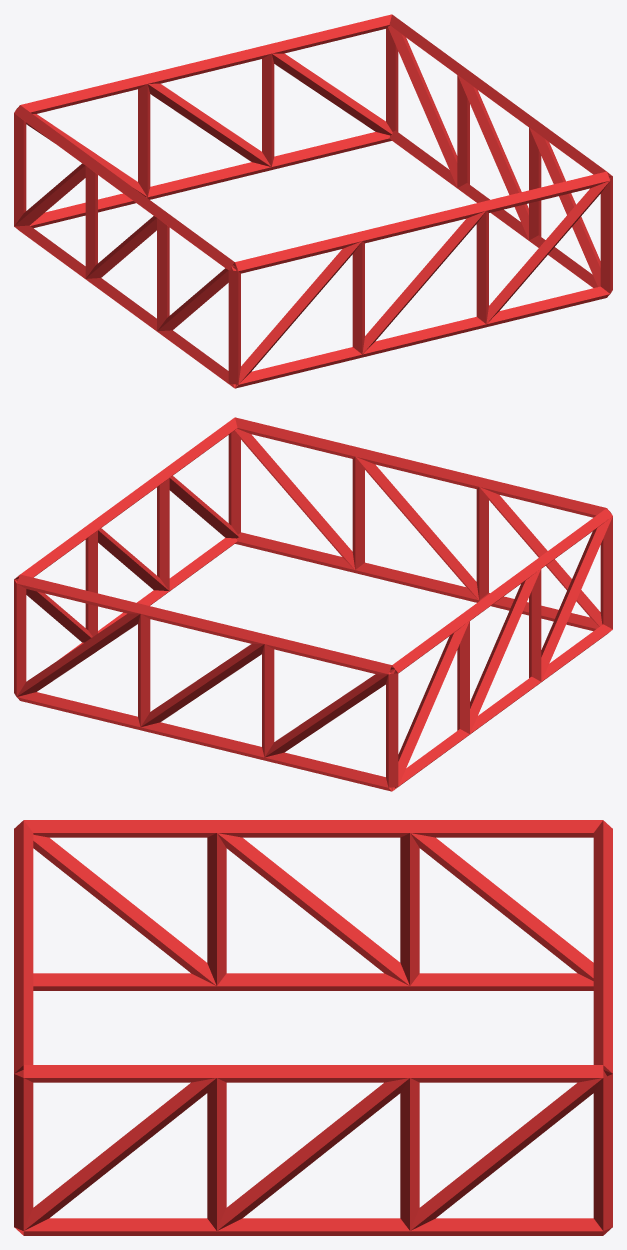
The model's file is andamioDeptoB.DAE.
3 renders of one model, top to bottom at view 1: azimuth 30°, elevation 25°; view 2: azimuth 150°, elevation 25°; view 3: azimuth 270°, elevation 25°, orthographic. The views are drawn at different scales.
Parts seen in each view (by area): view 1: andamioDeptoB; view 2: andamioDeptoB; view 3: andamioDeptoB.
Part boxes in pixels (x1,y1,x2,y2): andamioDeptoB: (14,14,612,388); andamioDeptoB: (14,417,612,791); andamioDeptoB: (14,820,612,1235).
Size of the model in its own units: 12.4 by 3.9 by 12.4.
